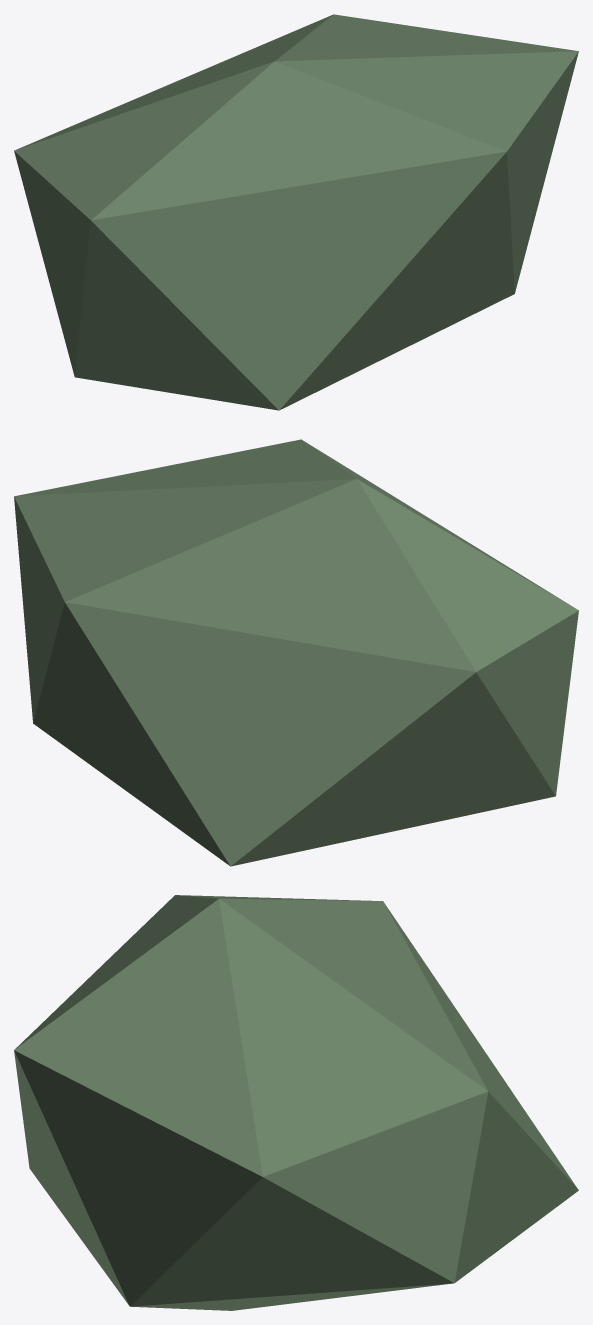
File: mossrock.glb
3 renders of one model, top to bottom at view 1: azimuth 30°, elevation 25°; view 2: azimuth 150°, elevation 25°; view 3: azimuth 270°, elevation 25°, orthographic. The views are drawn at different scales.
Parts seen in each view (by area): view 1: Icosphere; view 2: Icosphere; view 3: Icosphere.
Boxes of the visible parts, x1,y1,x2,y2 form: Icosphere: (14,14,578,410); Icosphere: (14,439,578,866); Icosphere: (14,895,578,1310).
Bounding box in the file's own units: 0.4437 × 0.2733 × 0.3562.
